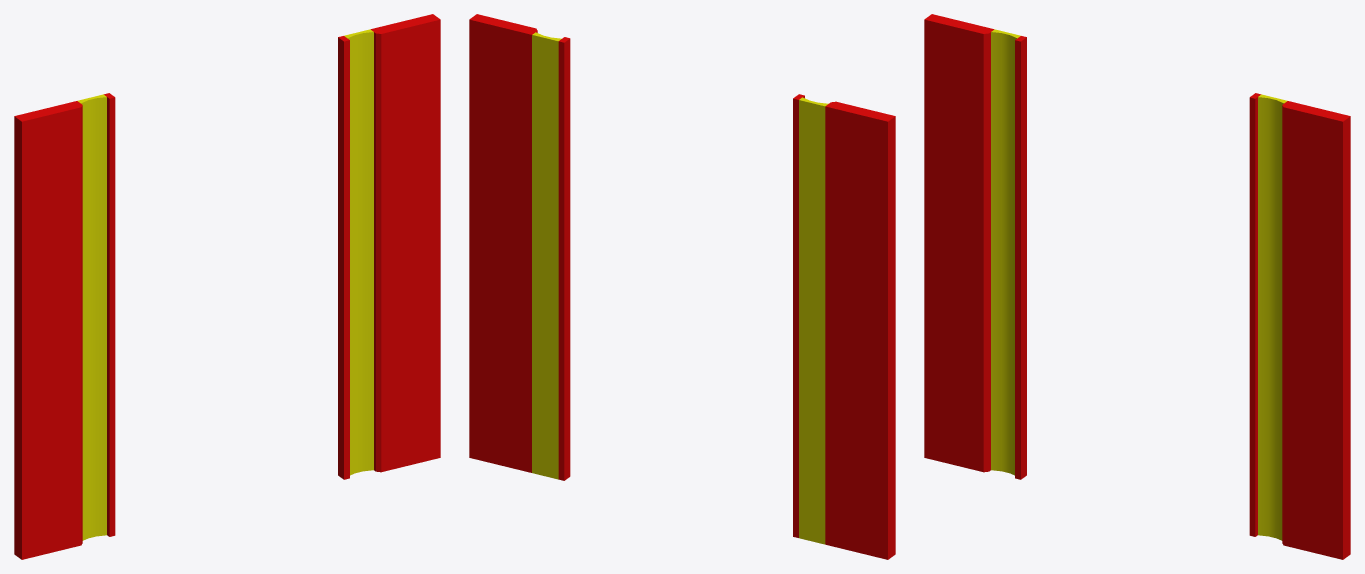
File: WallDecoPillar.fbx
3 renders of one model, left to right at view 1: azimuth 30°, elevation 25°; view 2: azimuth 150°, elevation 25°; view 3: azimuth 330°, elevation 25°, orthographic.
Visible parts, largest first — view 1: Wall8; view 2: Wall8; view 3: Wall8.
Boxes of the visible parts, <box> form: Wall8: <box>14,14,440,559</box>; Wall8: <box>469,14,895,559</box>; Wall8: <box>924,14,1350,559</box>.
Size of the model in its own units: 200 by 200 by 6.3.
